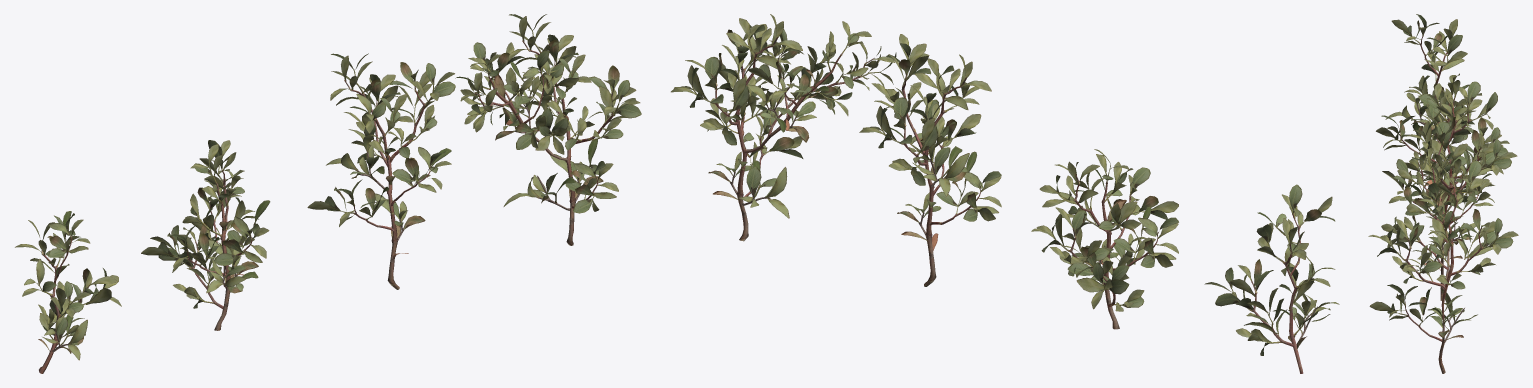
The model's file is shrub.glb.
The picture shows the model from 3 angles, left to right: view 1: azimuth 30°, elevation 25°; view 2: azimuth 150°, elevation 25°; view 3: azimuth 270°, elevation 25°; orthographic projection. The views are drawn at different scales.
Parts seen in each view (by area): view 1: shrub_04; view 2: shrub_04; view 3: shrub_04.
Part boxes in pixels (x1,y1,x2,y2): shrub_04: (15,14,641,373); shrub_04: (671,14,1339,373); shrub_04: (1368,14,1518,373).
Bounding box in the file's own units: 0.5837 × 0.2192 × 0.1461.
1 material, 1 textured.
